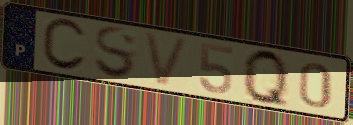0: (297, 61, 337, 109)
5: (197, 40, 235, 95)
C: (39, 17, 89, 74)
Q: (241, 46, 291, 111)
S: (93, 25, 139, 82)
V: (141, 30, 193, 89)
